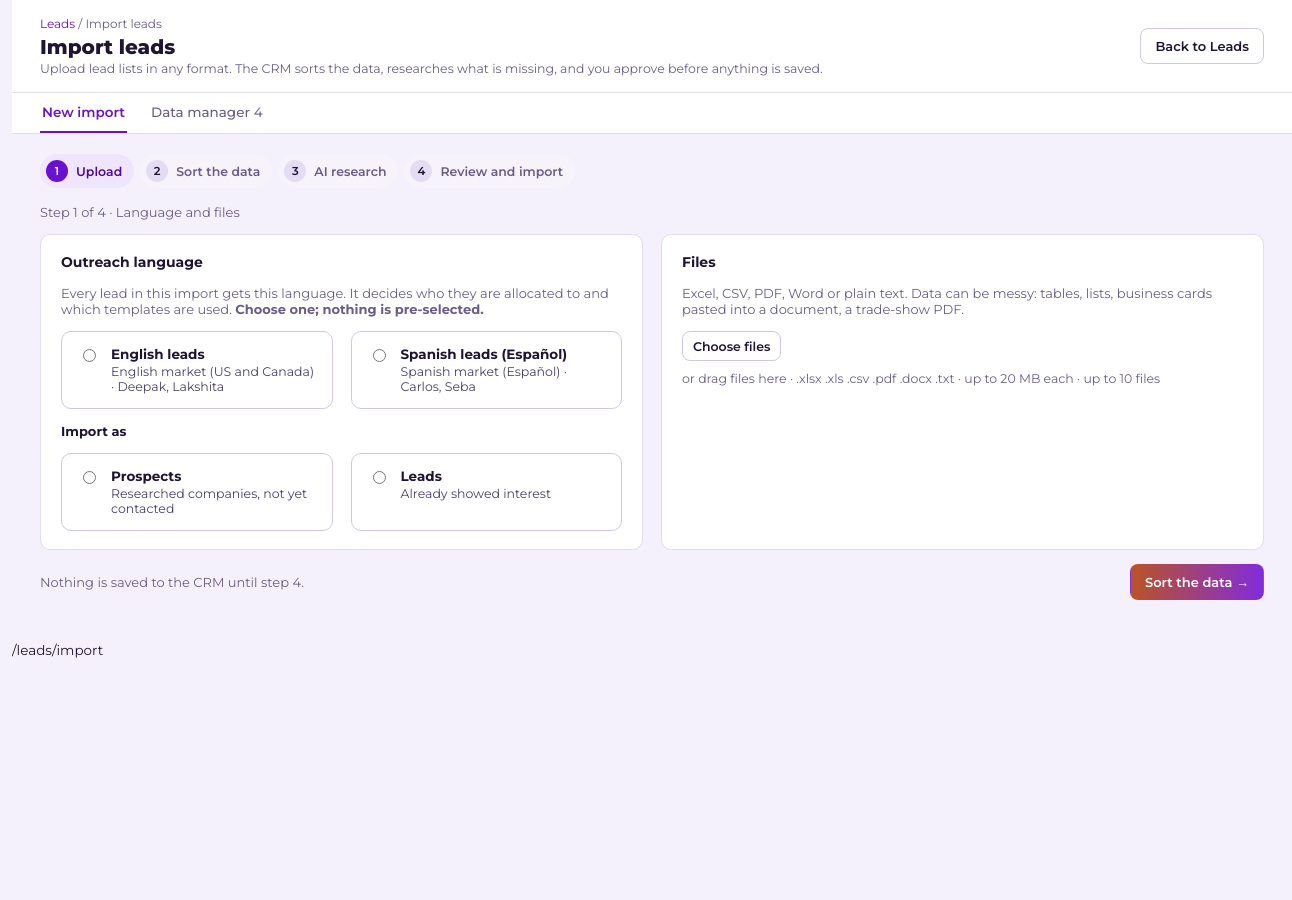
Scenario: step 1: no default language or import type › starts with nothing checked; continuing names both choices and marks both groups
Expected: the text "English market (US and Canada) · Deepak, Lakshita" is shown, 111,364 -> 316,394
Expected: the 1st radio button is not checked, 83,349 -> 96,362
Click the button "Sort the data →".
click(1197, 582)  # box 1130,564 -> 1264,600
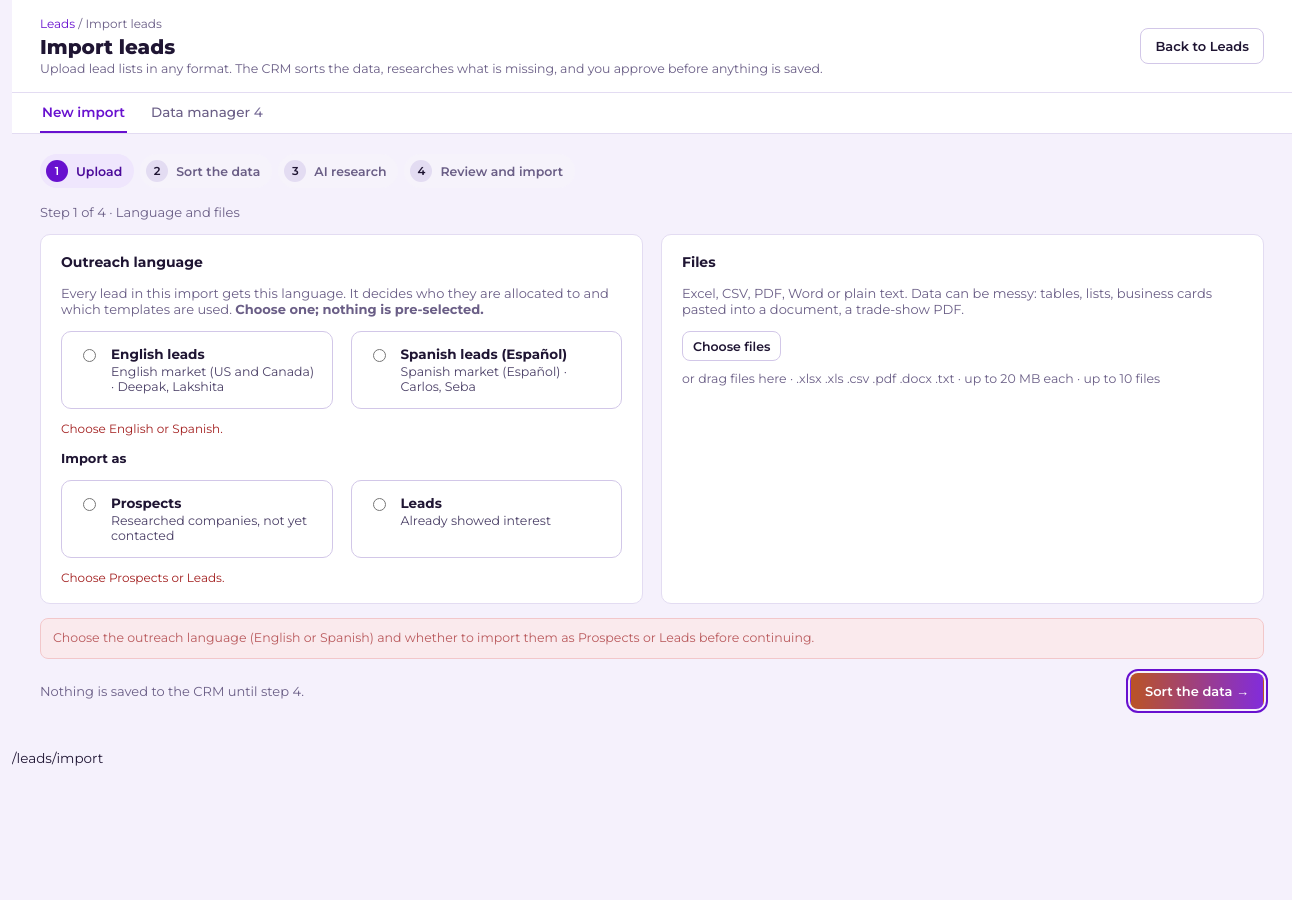
Expected: the message shows "Choose the outreach language (English or Spanish) and whether to import them as Prospects or Leads before continuing.", 53,630 -> 814,645
